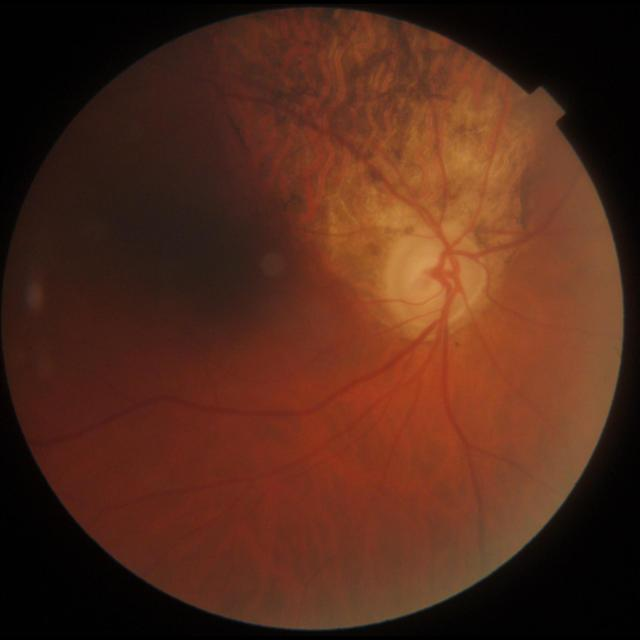OC: (408, 256, 443, 296)
OD: (388, 226, 484, 326)
